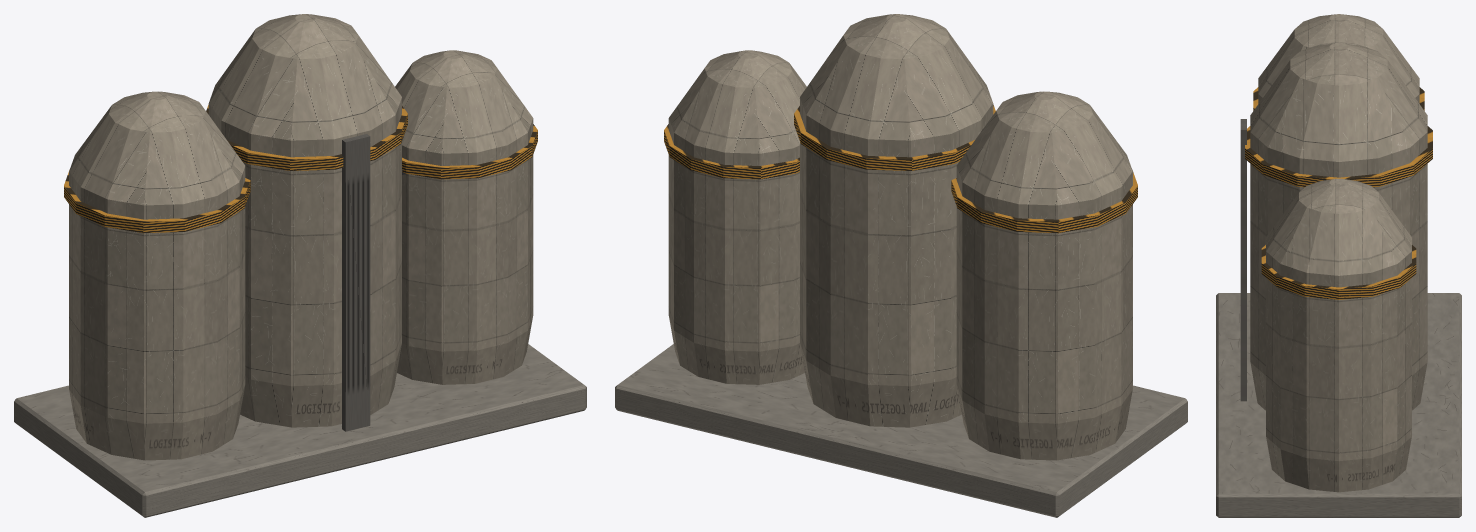
Rendered from silo_cluster.obj.
3 views of the same model, side by side, from view 1: azimuth 30°, elevation 25°; view 2: azimuth 150°, elevation 25°; view 3: azimuth 270°, elevation 25° (orthographic). The views are drawn at different scales.
Visible parts, largest first — view 1: silo_cluster; view 2: silo_cluster; view 3: silo_cluster.
Boxes of the visible parts, box(x1,y1,x2,y2) form: silo_cluster: box(14, 14, 586, 517); silo_cluster: box(615, 14, 1187, 517); silo_cluster: box(1216, 14, 1461, 517).
Size of the model in its own units: 9.13 by 7.7 by 4.6.
Materials: 1 (1 with a texture image).
